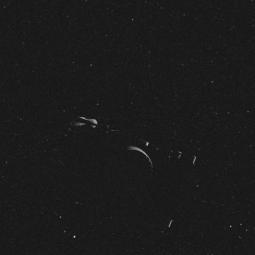proba_3_csc: (62, 106, 198, 231)
